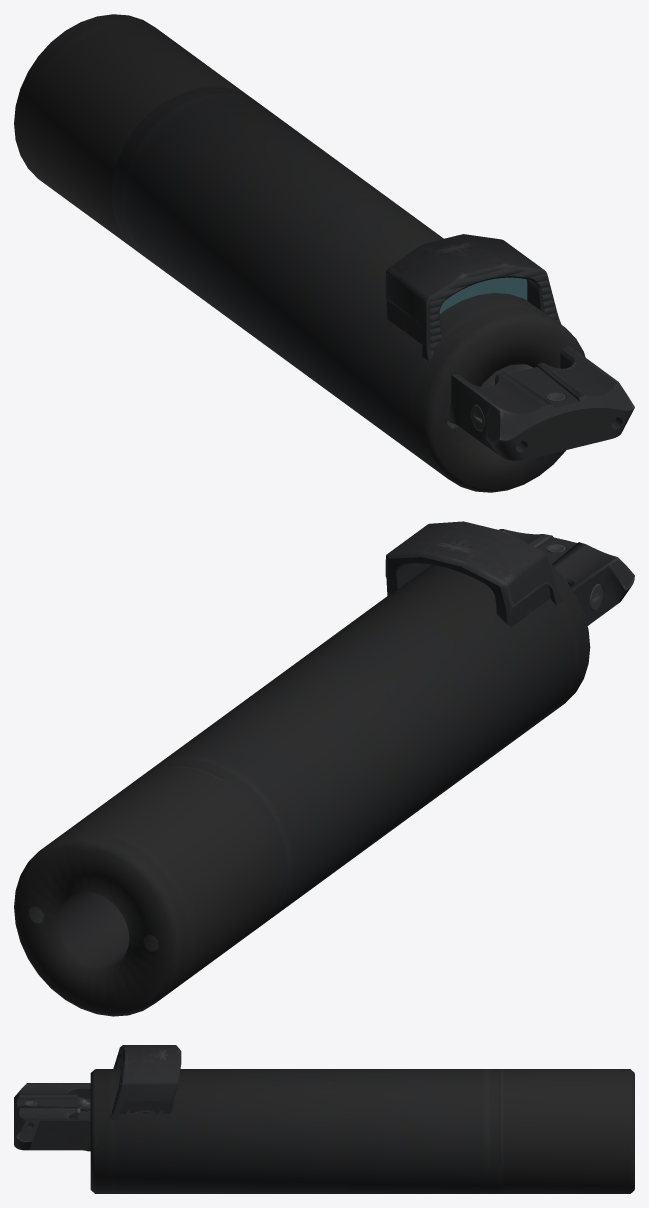
The model's file is g17-att.glb.
The picture shows the model from 3 angles, top to bottom: view 1: azimuth 30°, elevation 25°; view 2: azimuth 150°, elevation 25°; view 3: azimuth 270°, elevation 25°; orthographic projection. The views are drawn at different scales.
Parts seen in each view (by area): view 1: canSB100, canMD3, dot, dotGlass; view 2: canSB100, canMD3, dot; view 3: canSB100, canMD3, dot.
Boxes of the visible parts, bbox=[...] form: canSB100: bbox=[111, 85, 571, 482]; canMD3: bbox=[14, 14, 585, 492]; dot: bbox=[385, 234, 634, 460]; dotGlass: bbox=[439, 277, 527, 314]; canSB100: bbox=[137, 564, 589, 931]; canMD3: bbox=[14, 563, 590, 1016]; dot: bbox=[385, 521, 634, 627]; canSB100: bbox=[95, 1069, 503, 1193]; canMD3: bbox=[90, 1069, 634, 1193]; dot: bbox=[14, 1045, 181, 1151].
Size of the model in its own units: 0.034 by 0.04 by 0.1689.
5 materials, 4 textured.
